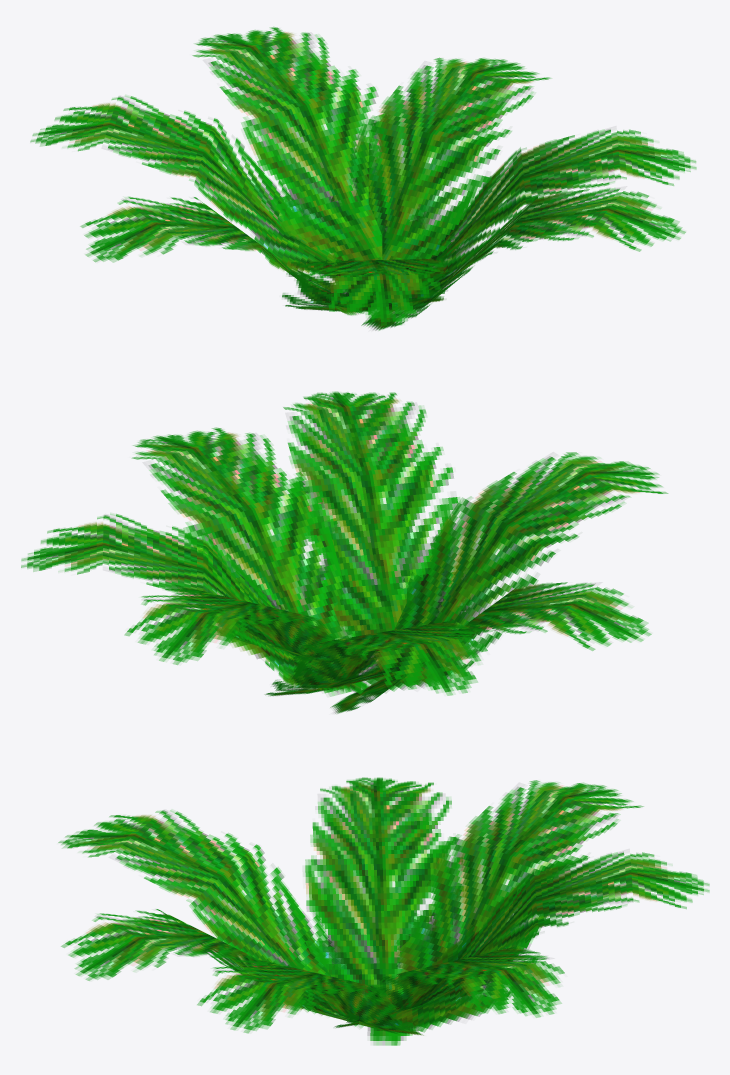
The model's file is sceneDraco.gltf.
3 views of the same model, one above another, from view 1: azimuth 30°, elevation 25°; view 2: azimuth 150°, elevation 25°; view 3: azimuth 270°, elevation 25° (orthographic). The views are drawn at different scales.
Size of the model in its own units: 1.45 by 0.4105 by 1.5.
1 material, 1 textured.
